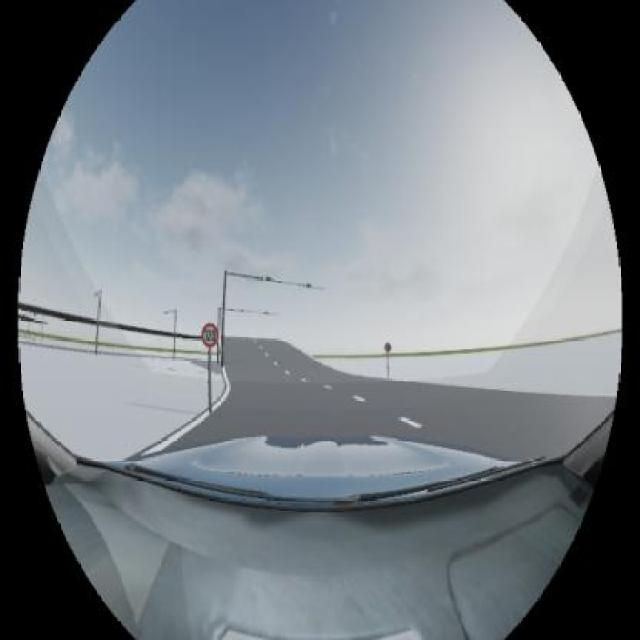forb_speed_over_120: (202, 322, 219, 347)
